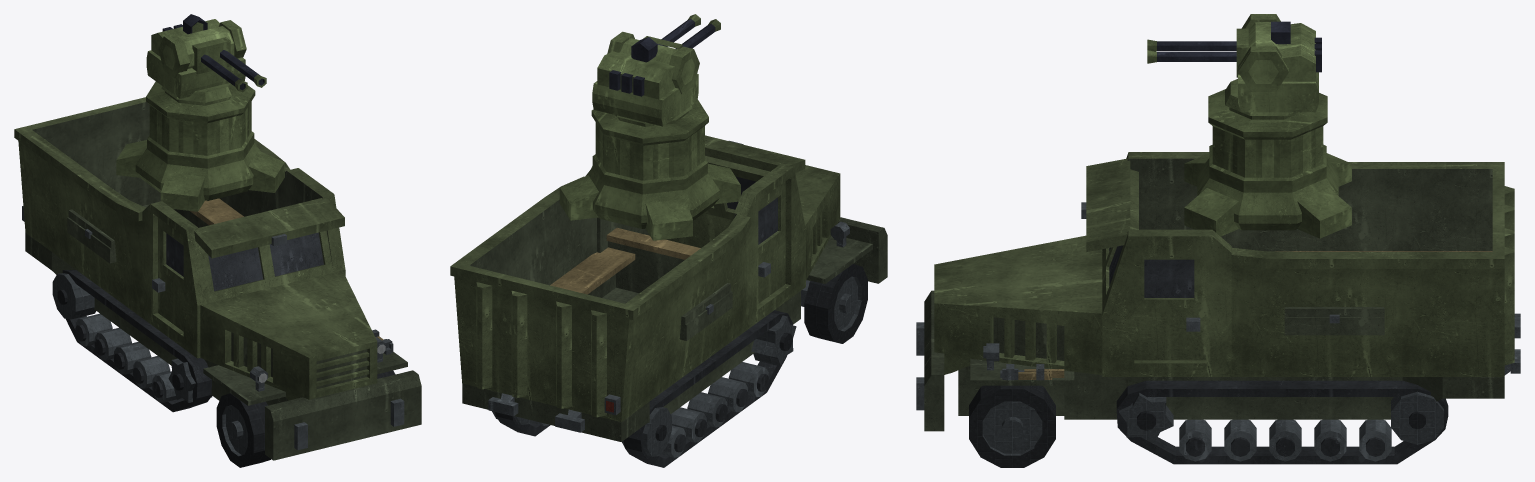
File: near_ifv.glb
3 views of the same model, side by side, from view 1: azimuth 30°, elevation 25°; view 2: azimuth 150°, elevation 25°; view 3: azimuth 270°, elevation 25° (orthographic). The views are drawn at different scales.
Visible parts, largest first — view 1: half-track-hull, turret-pedestal, turret-head, tyre-fl, mantlet-cradle, idlers-discs, gun-barrels, sprockets-discs; view 2: half-track-hull, turret-pedestal, turret-head, tyre-fl, sprockets-discs, idlers-discs, gun-barrels, mantlet-cradle; view 3: half-track-hull, turret-pedestal, turret-head, tyre-fr, idlers-discs, gun-barrels, sprockets-discs, mantlet-cradle, pioneer-tools.
Boxes of the visible parts, x1,y1,x2,y2 form: half-track-hull: [14, 97, 421, 460]; turret-pedestal: [116, 81, 284, 211]; turret-head: [146, 14, 246, 102]; tyre-fl: [216, 393, 270, 467]; mantlet-cradle: [178, 26, 234, 74]; idlers-discs: [52, 273, 95, 319]; gun-barrels: [201, 50, 266, 92]; sprockets-discs: [168, 358, 212, 402]; half-track-hull: [450, 135, 887, 467]; turret-pedestal: [559, 99, 740, 240]; turret-head: [592, 31, 699, 126]; tyre-fl: [804, 264, 867, 343]; sprockets-discs: [751, 315, 796, 366]; idlers-discs: [492, 407, 671, 456]; gun-barrels: [657, 14, 720, 49]; mantlet-cradle: [620, 36, 682, 63]; half-track-hull: [916, 152, 1520, 464]; turret-pedestal: [1184, 89, 1351, 238]; turret-head: [1225, 14, 1321, 115]; tyre-fr: [969, 385, 1055, 467]; idlers-discs: [1391, 391, 1443, 444]; gun-barrels: [1147, 39, 1236, 63]; sprockets-discs: [1119, 392, 1173, 443]; mantlet-cradle: [1236, 22, 1278, 77]; pioneer-tools: [1000, 364, 1064, 380].
Bounding box in the file's own units: 2.3 × 4.45 × 6.04.
2 materials, 2 textured.
